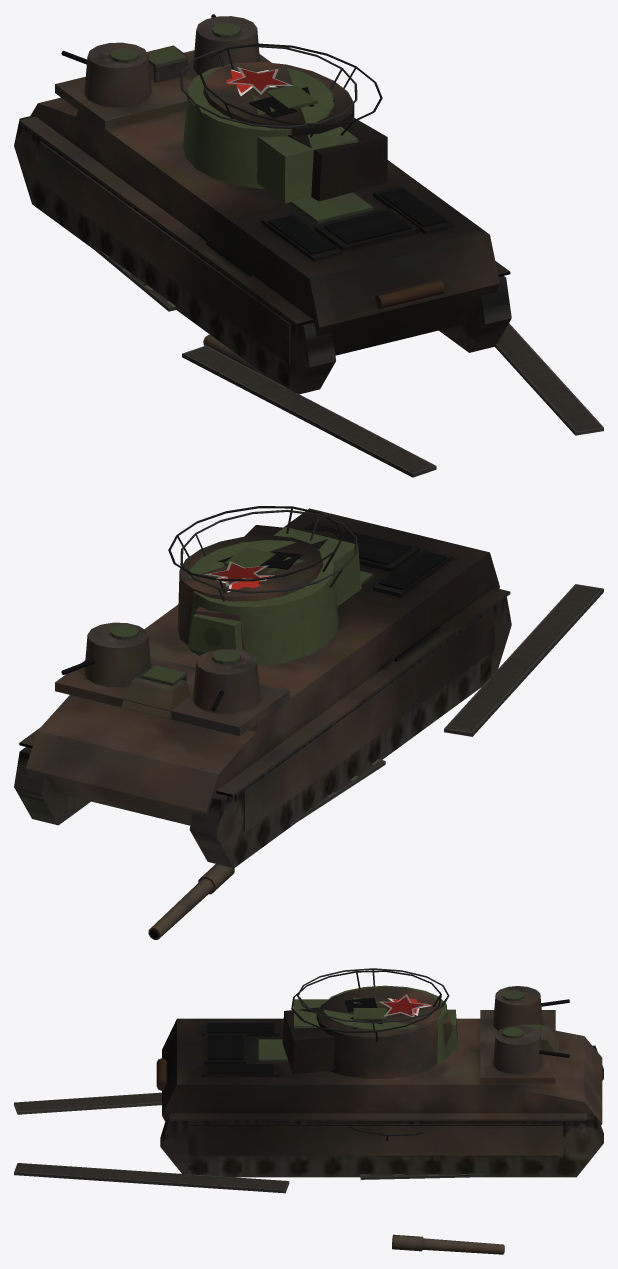
The picture shows the model from 3 angles, top to bottom: view 1: azimuth 30°, elevation 25°; view 2: azimuth 150°, elevation 25°; view 3: azimuth 270°, elevation 25°; orthographic projection. The views are drawn at different scales.
Parts seen in each view (by area): view 1: hull_blown, turret_ok, turret_ko, hull_trackL, hull_trackR, hull_ok; view 2: hull_blown, turret_ok, turret_ko, hull_trackL, gun_blown, hull_ok; view 3: hull_blown, turret_ko, hull_trackR, turret_ok, hull_trackL, gun_blown, hull_ok.
Boxes of the visible parts, bbox=[...] form: hull_blown: bbox=[14, 14, 511, 394]; turret_ok: bbox=[180, 45, 358, 203]; turret_ko: bbox=[198, 43, 387, 201]; hull_trackL: bbox=[93, 246, 436, 477]; hull_trackR: bbox=[494, 323, 603, 435]; hull_ok: bbox=[110, 23, 373, 223]; hull_blown: bbox=[14, 508, 511, 867]; turret_ok: bbox=[180, 509, 361, 665]; turret_ko: bbox=[168, 506, 343, 649]; hull_trackL: bbox=[295, 584, 603, 822]; gun_blown: bbox=[148, 864, 234, 939]; hull_ok: bbox=[110, 571, 373, 685]; hull_blown: bbox=[156, 986, 603, 1177]; turret_ko: bbox=[282, 970, 452, 1078]; hull_trackR: bbox=[14, 1163, 484, 1193]; turret_ok: bbox=[293, 968, 457, 1065]; hull_trackL: bbox=[14, 1092, 161, 1114]; gun_blown: bbox=[392, 1234, 504, 1254]; hull_ok: bbox=[258, 990, 540, 1061].
Bounding box in the file's own units: 4.17 × 4.65 × 9.78.
21 materials, 21 textured.
